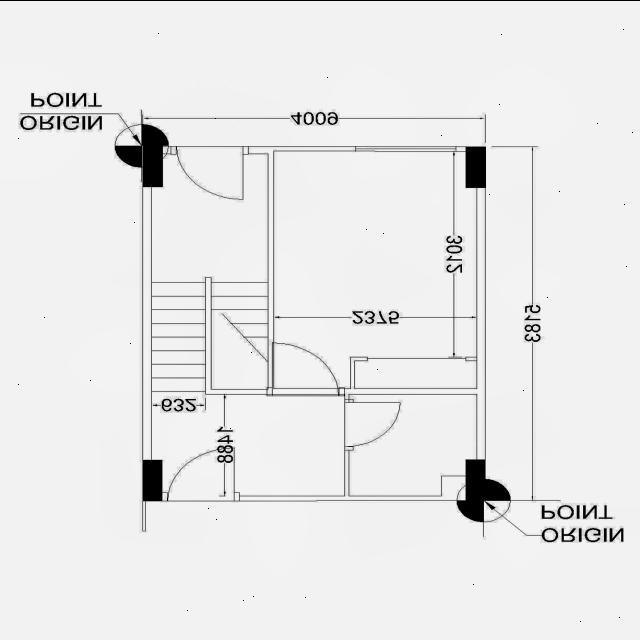Column: (142, 458, 162, 501), (466, 145, 486, 187), (466, 458, 486, 499), (142, 146, 162, 186)
Door: (169, 144, 250, 200), (166, 446, 242, 502), (270, 340, 346, 396), (344, 398, 402, 450)
Staircase: (150, 274, 269, 394)
Window: (354, 144, 458, 152)
